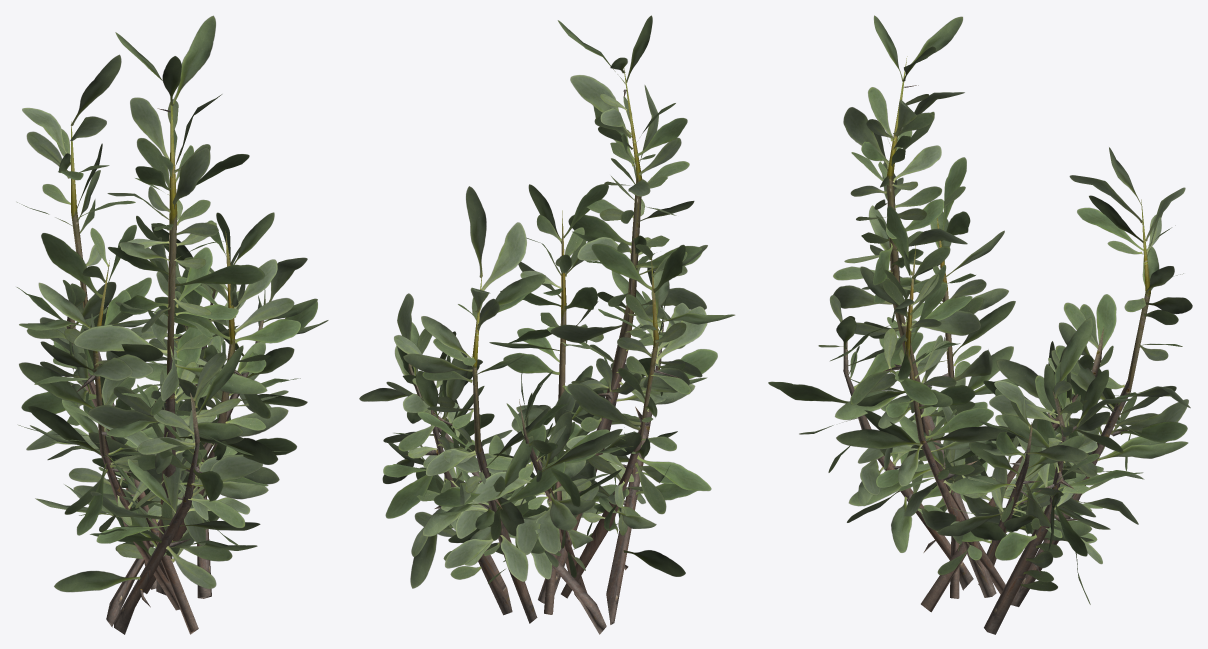
Rendered from nama_othonna_f.glb.
3 renders of one model, left to right at view 1: azimuth 30°, elevation 25°; view 2: azimuth 150°, elevation 25°; view 3: azimuth 270°, elevation 25°, orthographic. The views are drawn at different scales.
Visible parts, largest first — view 1: nama_othonna_f; view 2: nama_othonna_f; view 3: nama_othonna_f.
Boxes of the visible parts, box(x1,y1,x2,y2) form: nama_othonna_f: box(16, 15, 328, 634); nama_othonna_f: box(359, 15, 734, 634); nama_othonna_f: box(768, 15, 1192, 634).
Size of the model in its own units: 0.5455 by 0.9516 by 0.6364.
2 materials, 2 textured.
